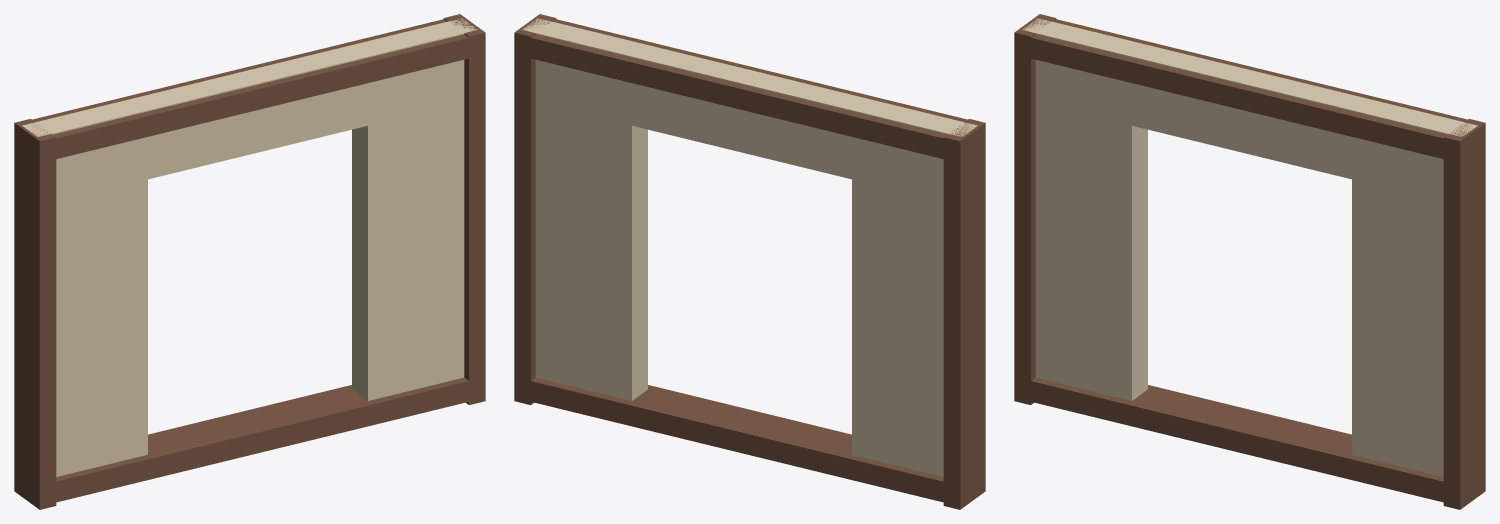
The model's file is tavern_wall_door.glb.
3 views of the same model, side by side, from view 1: azimuth 30°, elevation 25°; view 2: azimuth 150°, elevation 25°; view 3: azimuth 330°, elevation 25° (orthographic).
Parts seen in each view (by area): view 1: tavern_wall_door_Mesh; view 2: tavern_wall_door_Mesh; view 3: tavern_wall_door_Mesh.
Boxes of the visible parts, box(x1,y1,x2,y2) form: tavern_wall_door_Mesh: box(14, 14, 485, 509); tavern_wall_door_Mesh: box(514, 14, 985, 509); tavern_wall_door_Mesh: box(1014, 14, 1485, 509).
Size of the model in its own units: 4.05 by 3.2 by 0.4.
